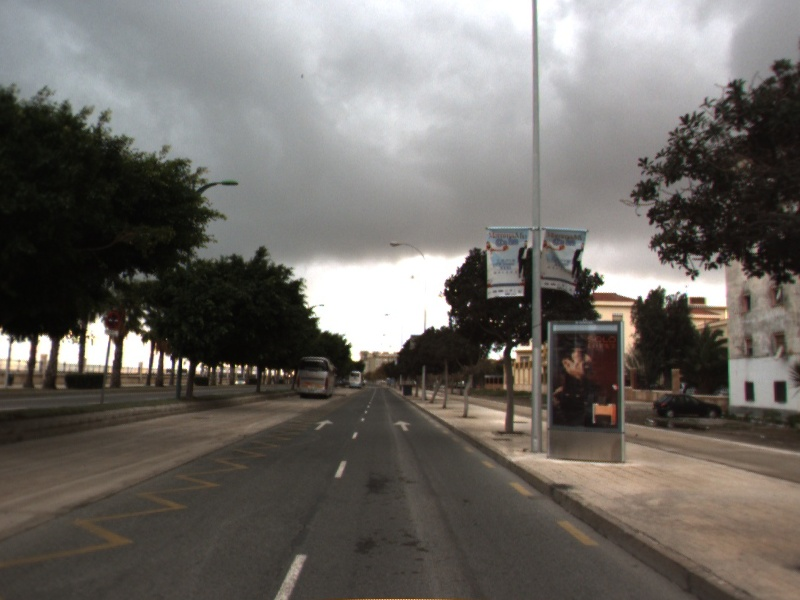STRAIGHT: (312, 418, 335, 432), (391, 419, 413, 433)
